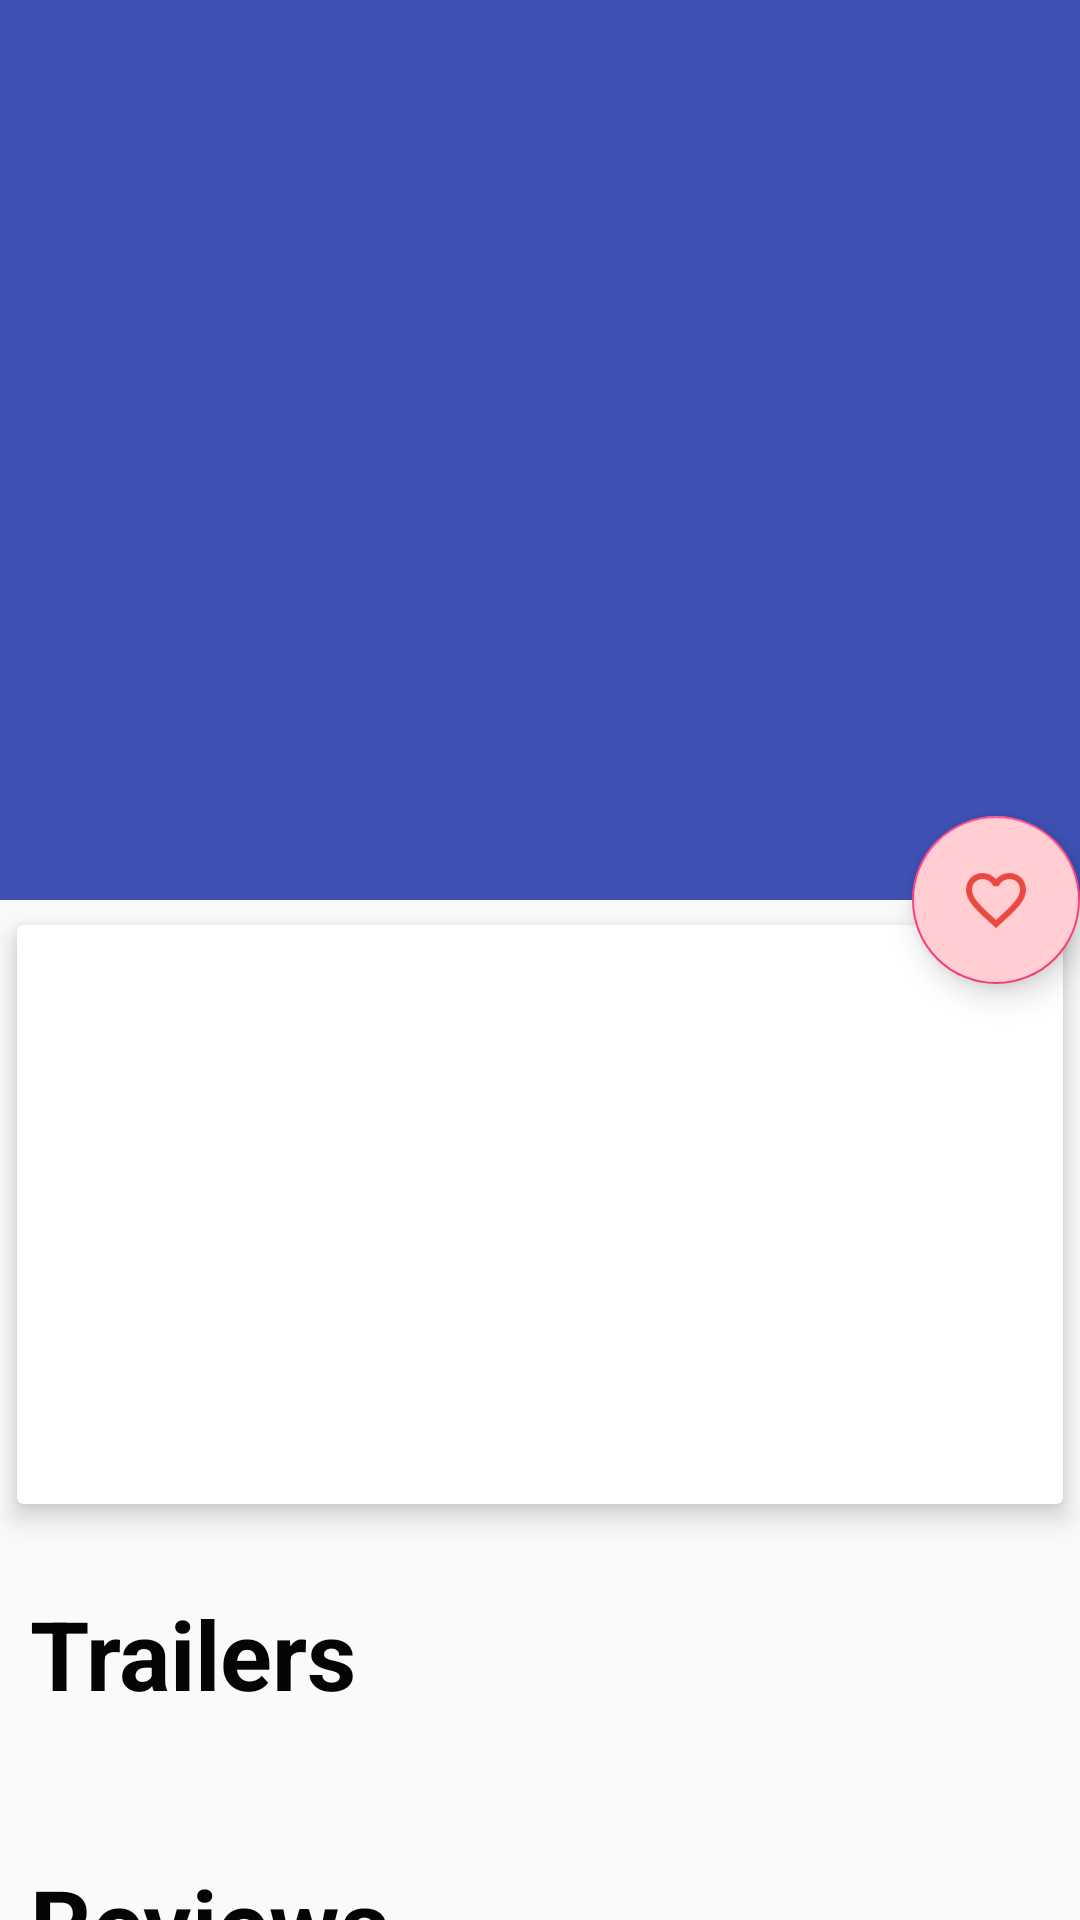

Icon click points for this 1080*1920 phone screenshot, format [x,y]:
fav not: [996,900]
